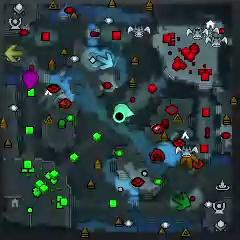p2: (115, 103, 135, 118)
p2Clone: (113, 111, 125, 123)
p3: (22, 69, 39, 91)
x2: (5, 45, 23, 63)
x3: (97, 52, 114, 70)
x4: (173, 191, 191, 211)
x5: (180, 152, 199, 169)
